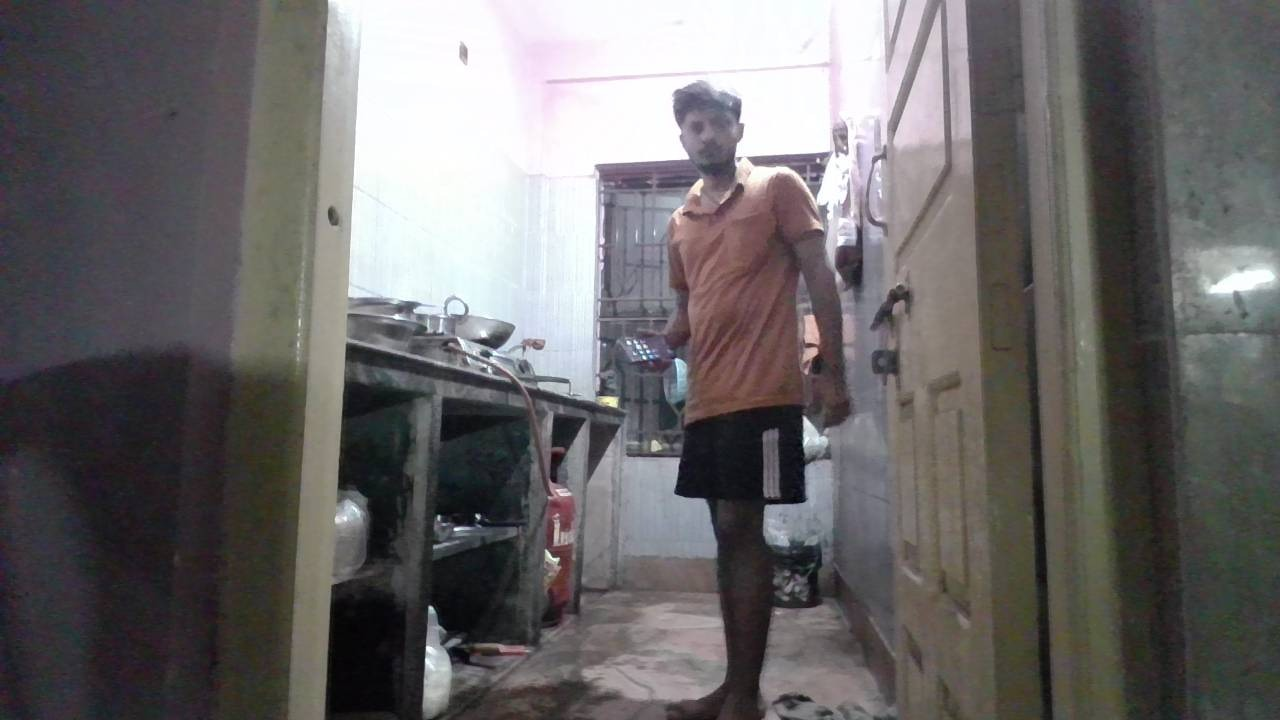red_box: (707, 387, 790, 418)
